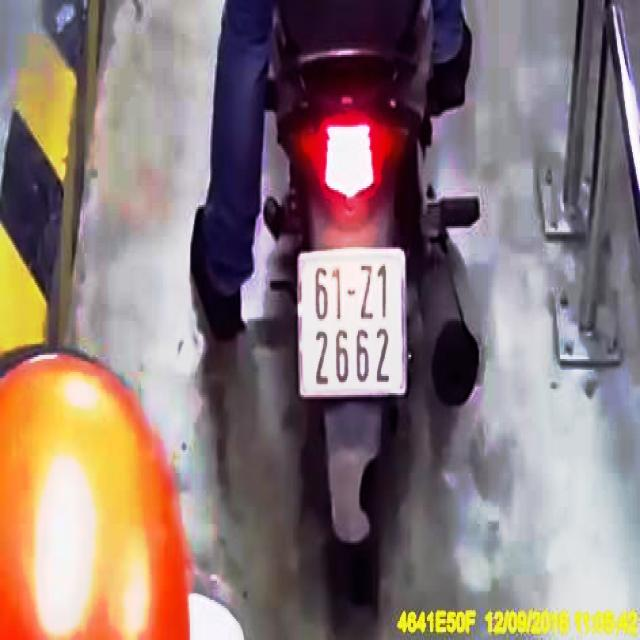license_plate: (302, 255, 407, 395)
